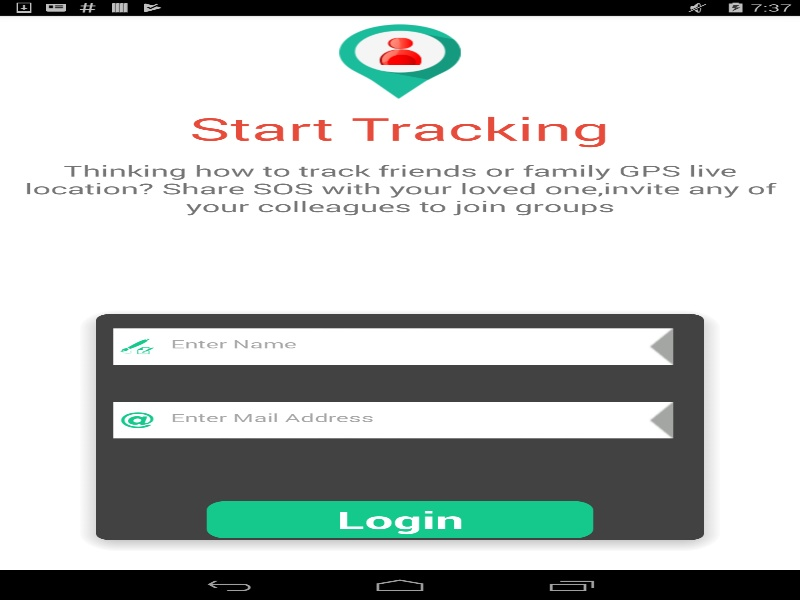Button: (206, 500, 593, 538)
Input: (117, 410, 669, 426), (117, 337, 669, 352)
